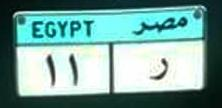1: (67, 52, 85, 89), (44, 52, 59, 89)
raa: (145, 54, 172, 84)
